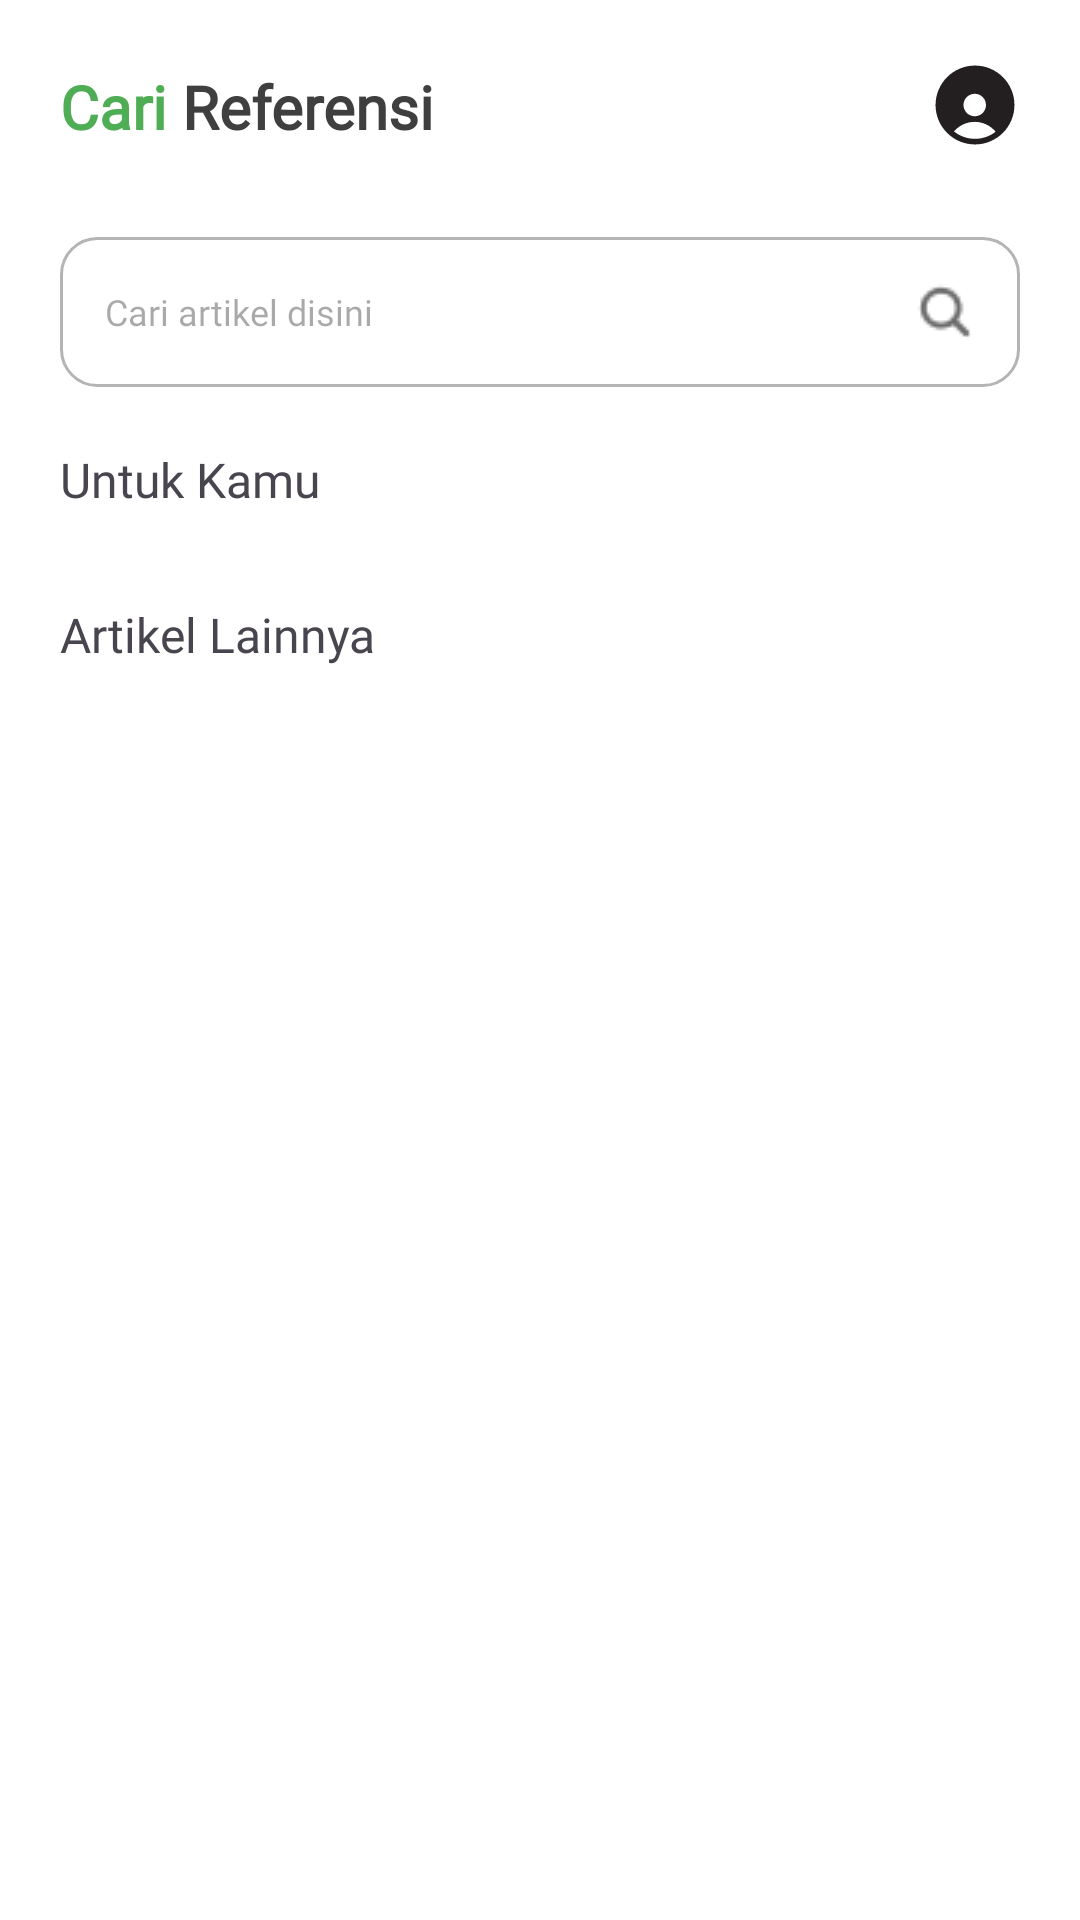

Named icons in this screenshot (1080 x 1920) and their centers, (x,y):
profile: (975,105)
